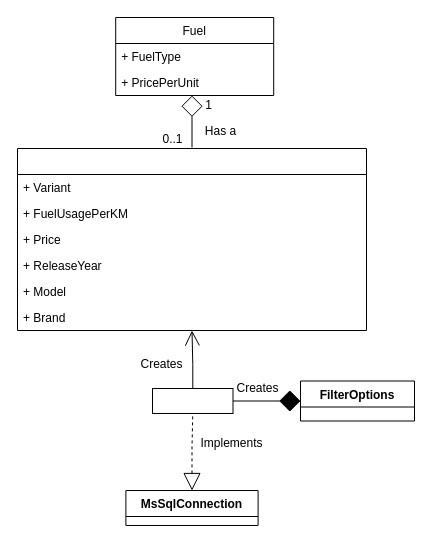
The diagram is 432 pixels wide and 543 high, and some of its shapes have lost their labels. The shapes that lost their labels are listed below. From the top down, each one's box as (x1, y1, x2, y2) in pixels, then its label:
(16, 148, 366, 330): Car
(152, 388, 233, 414): GetCarInfo
